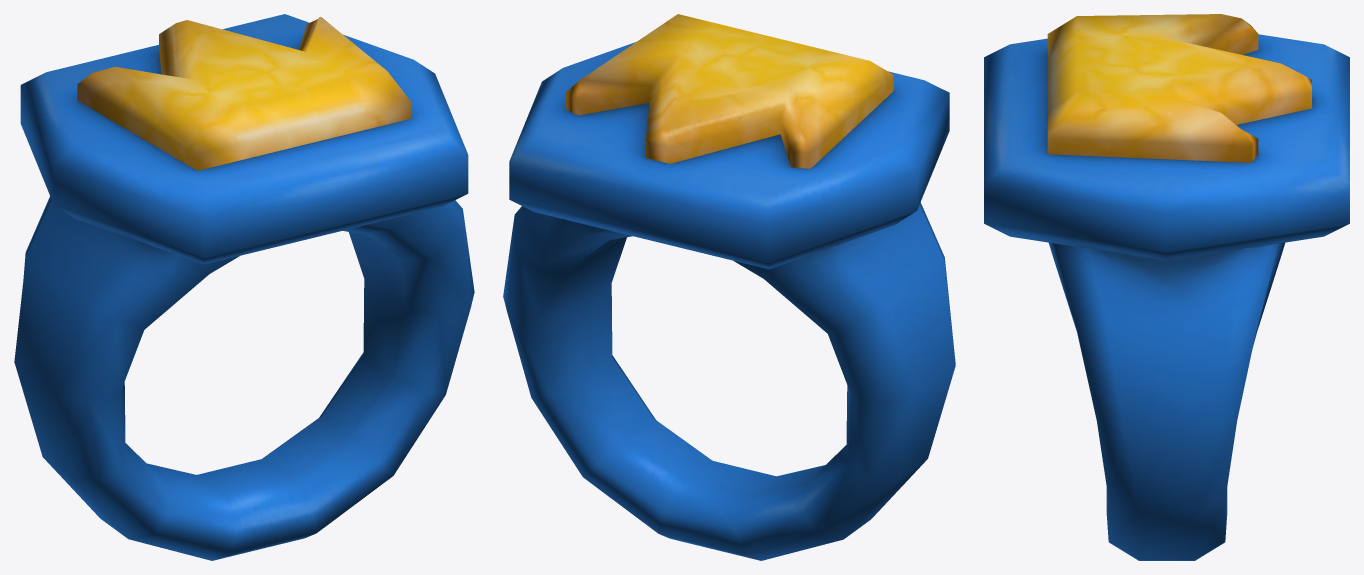
The model's file is 0-ring_blue.fbx.
3 renders of one model, left to right at view 1: azimuth 30°, elevation 25°; view 2: azimuth 150°, elevation 25°; view 3: azimuth 270°, elevation 25°, orthographic.
Parts seen in each view (by area): view 1: 0-ring_blue; view 2: 0-ring_blue; view 3: 0-ring_blue.
Boxes of the visible parts, left/top/right/bottom form: 0-ring_blue: left=14, top=14, right=474, bottom=560; 0-ring_blue: left=503, top=14, right=955, bottom=560; 0-ring_blue: left=984, top=14, right=1349, bottom=560.
Size of the model in its own units: 42.96 by 47.02 by 32.83.
